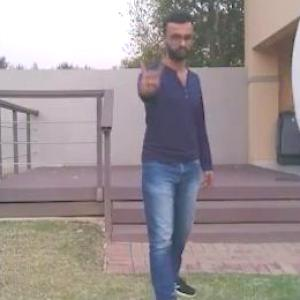takeoff-hand: (128, 45, 166, 99)
